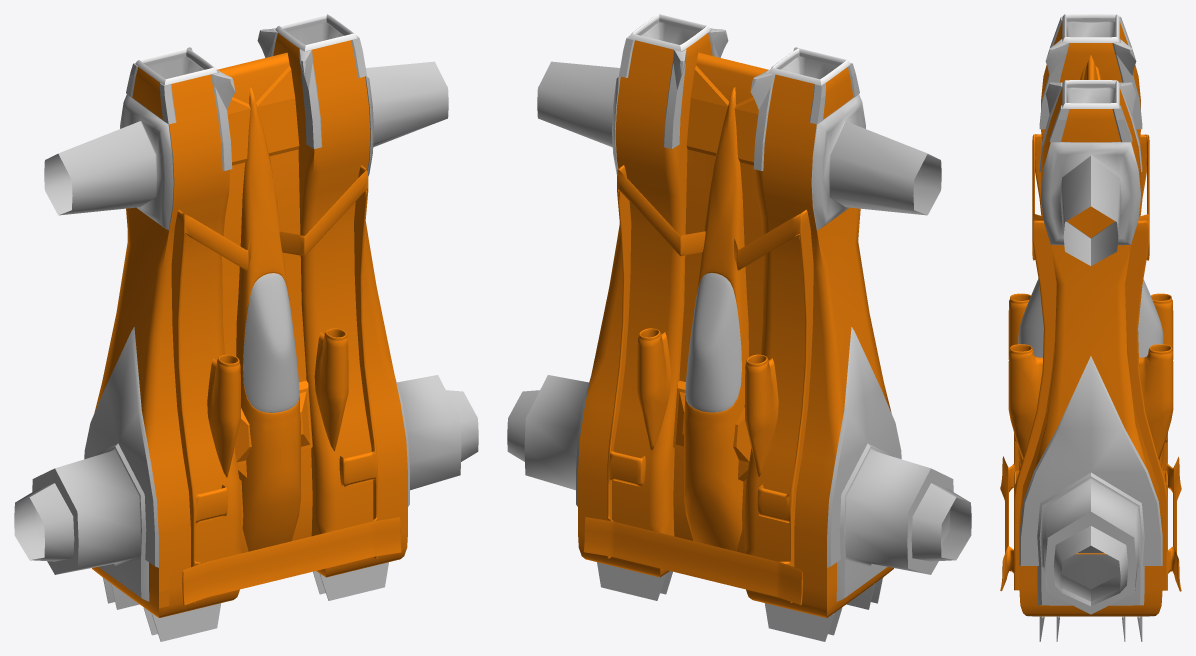
Rendered from car.obj.
The picture shows the model from 3 angles, left to right: view 1: azimuth 30°, elevation 25°; view 2: azimuth 150°, elevation 25°; view 3: azimuth 270°, elevation 25°; orthographic projection. The views are drawn at different scales.
Parts seen in each view (by area): view 1: Box16, Mesh01, Mesh04, Object03, Mesh03, Mesh05, Mesh06, Mesh28, Mesh02; view 2: Box16, Mesh01, Mesh30, Object24, Mesh03, Mesh05, Mesh06, Mesh27, Mesh29; view 3: Mesh01, Box16, Mesh30, Mesh04, Mesh05, Mesh27, Mesh28, Object03, Object24, Mesh29, Mesh02, Mesh06.
Boxes of the visible parts, x1,y1,x2,y2 form: Box16: (92, 14, 407, 617); Mesh01: (14, 61, 478, 601); Mesh04: (171, 165, 401, 605); Object03: (243, 273, 299, 412); Mesh03: (227, 65, 312, 480); Mesh05: (126, 28, 366, 170); Mesh06: (102, 562, 388, 641); Mesh28: (314, 328, 348, 451); Mesh02: (207, 354, 240, 477); Box16: (578, 14, 893, 617); Mesh01: (507, 61, 971, 601); Mesh30: (583, 165, 813, 604); Object24: (685, 273, 741, 412); Mesh03: (673, 65, 758, 481); Mesh05: (619, 28, 859, 170); Mesh06: (597, 562, 883, 641); Mesh27: (637, 328, 671, 451); Mesh29: (745, 354, 778, 477); Mesh01: (1019, 142, 1162, 614); Box16: (1018, 14, 1163, 616); Mesh30: (1125, 134, 1181, 591); Mesh04: (1000, 134, 1056, 591); Mesh05: (1039, 16, 1142, 171); Mesh27: (1139, 344, 1173, 459); Mesh28: (1008, 344, 1042, 459); Object03: (1018, 278, 1043, 357); Object24: (1138, 279, 1163, 357); Mesh29: (1151, 293, 1173, 359); Mesh02: (1008, 293, 1030, 359); Mesh06: (1039, 616, 1142, 641).
Size of the model in its own units: 398 by 481 by 149.
